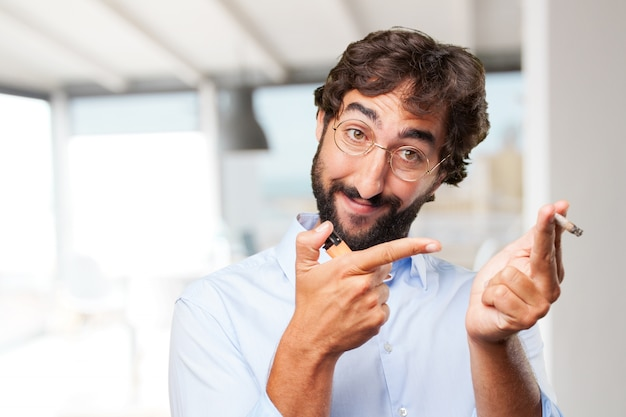cigarette: (550, 207, 583, 235)
